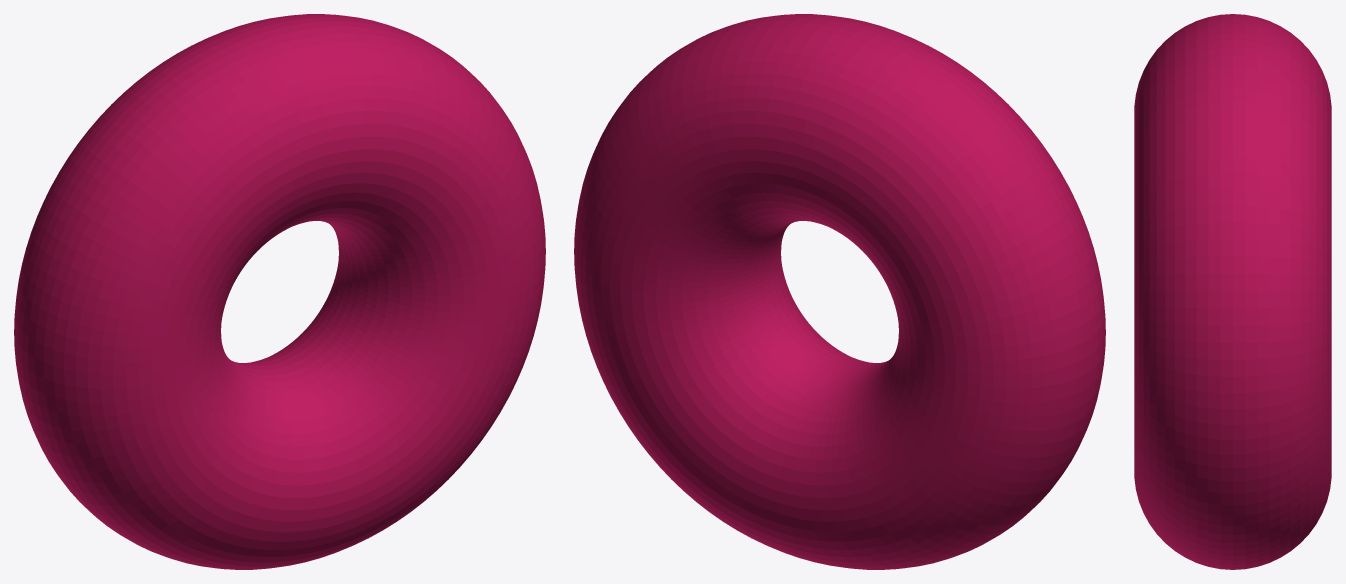
3 renders of one model, left to right at view 1: azimuth 30°, elevation 25°; view 2: azimuth 150°, elevation 25°; view 3: azimuth 270°, elevation 25°, orthographic. The views are drawn at different scales.
Parts seen in each view (by area): view 1: world; view 2: world; view 3: world.
Part boxes in pixels (x1,y1,x2,y2): world: [14, 14, 545, 569]; world: [574, 14, 1105, 569]; world: [1134, 14, 1331, 569].
Size of the model in its own units: 25.87 by 25.87 by 9.18.
